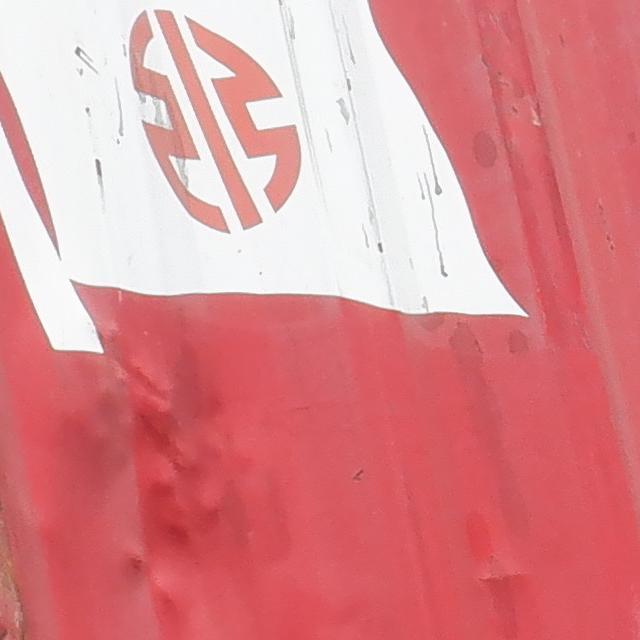dent: (1, 273, 383, 610)
